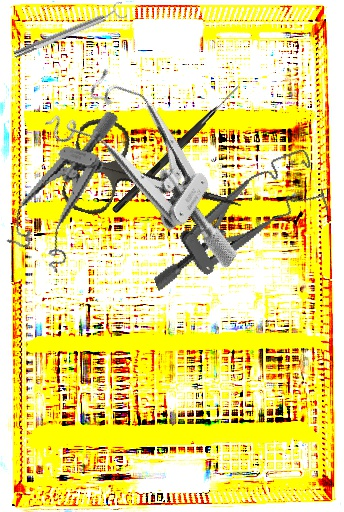Fixation Ring: (10, 0, 129, 63)
Hook Surgical: (111, 81, 242, 216)
Iris Scissors: (58, 112, 254, 254)
Speculum: (32, 56, 284, 270), (129, 146, 336, 294), (1, 94, 120, 278)
